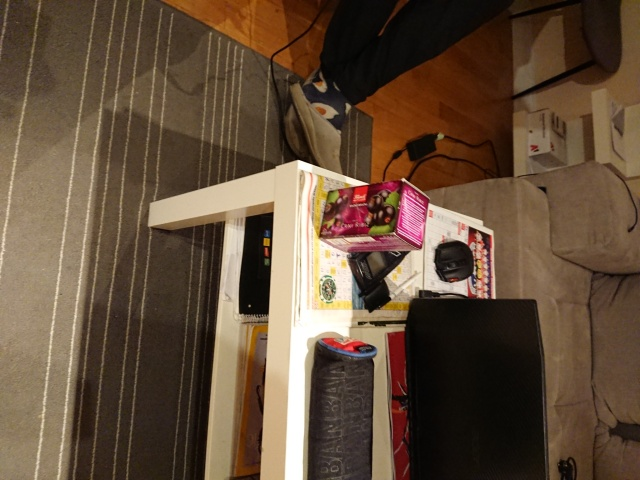Franck Black Currant Tea 60g: (316, 176, 432, 255)
